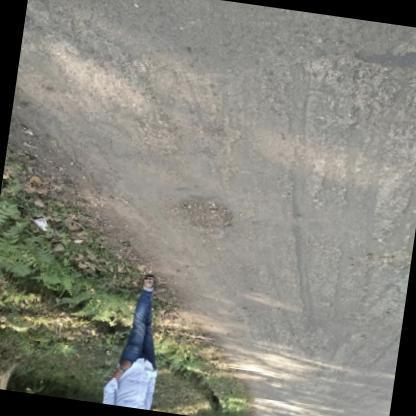pothole: (178, 195, 235, 226)
